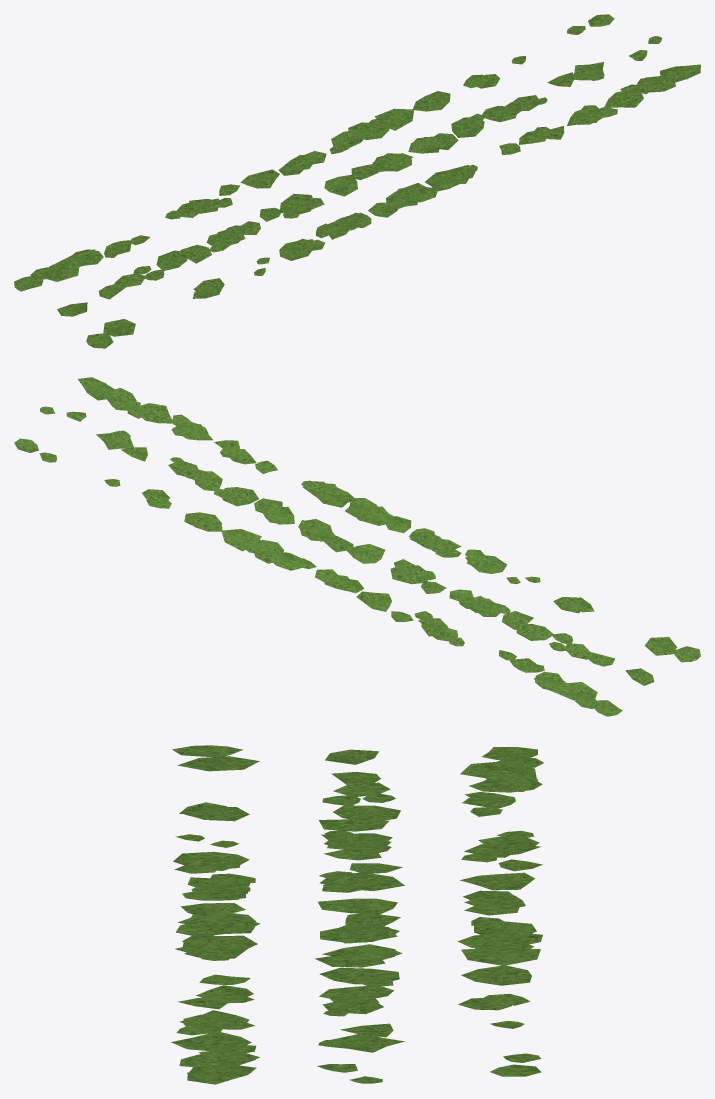
Rendered from kolej_porost_svah_2.glb.
3 views of the same model, one above another, from view 1: azimuth 30°, elevation 25°; view 2: azimuth 150°, elevation 25°; view 3: azimuth 270°, elevation 25° (orthographic). The views are drawn at different scales.
Visible parts, largest first — view 1: kolej_porost_svah_2; view 2: kolej_porost_svah_2; view 3: kolej_porost_svah_2.
Part boxes in pixels (bbox=[...]): kolej_porost_svah_2: bbox=[14, 14, 700, 348]; kolej_porost_svah_2: bbox=[14, 377, 700, 716]; kolej_porost_svah_2: bbox=[171, 745, 543, 1084].
Size of the model in its own units: 14.8 by 2.99 by 3.9.
Materials: 1 (1 with a texture image).
